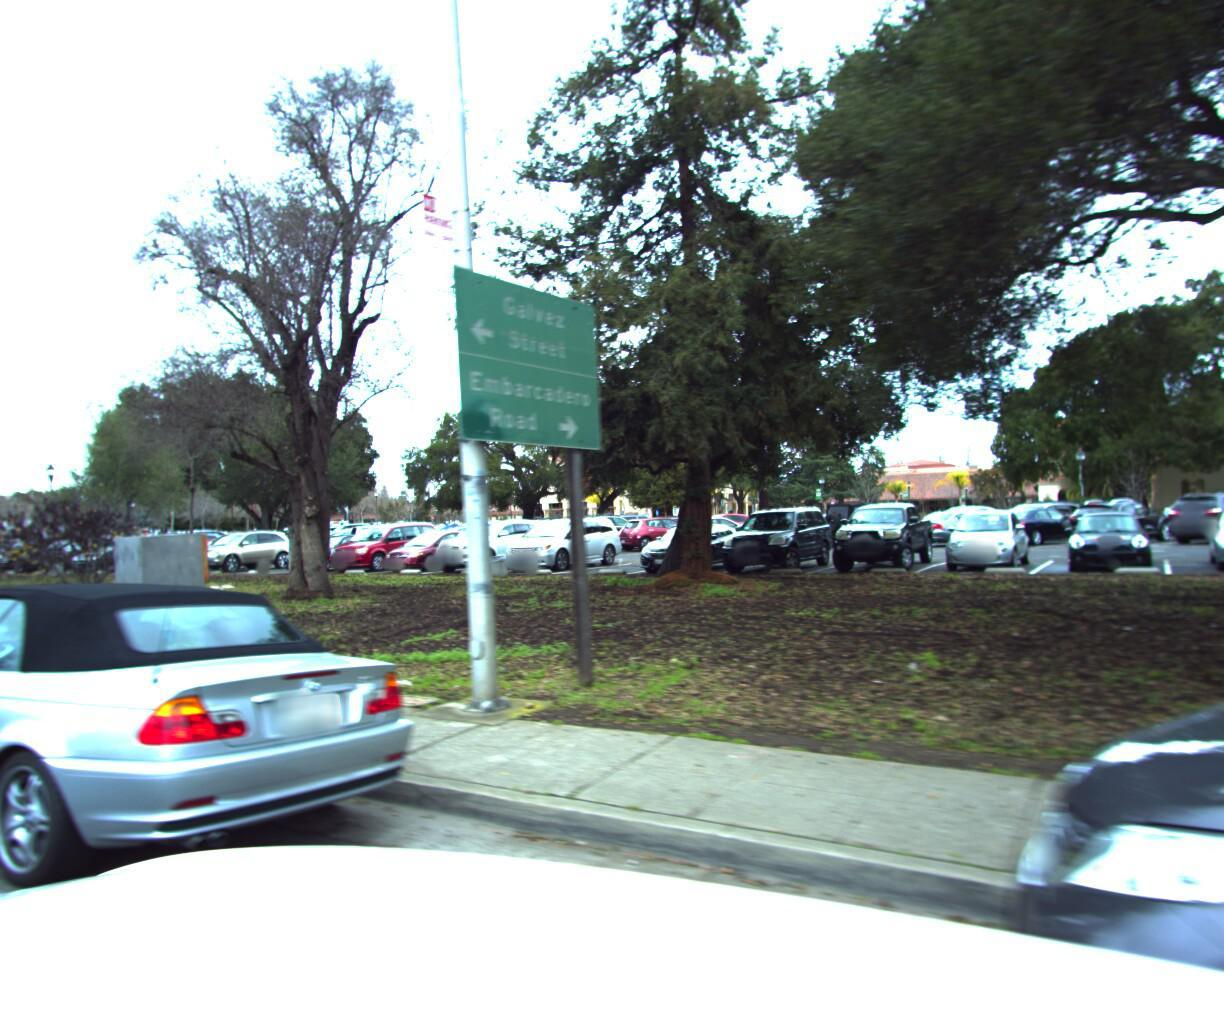car: (0, 554, 443, 951)
